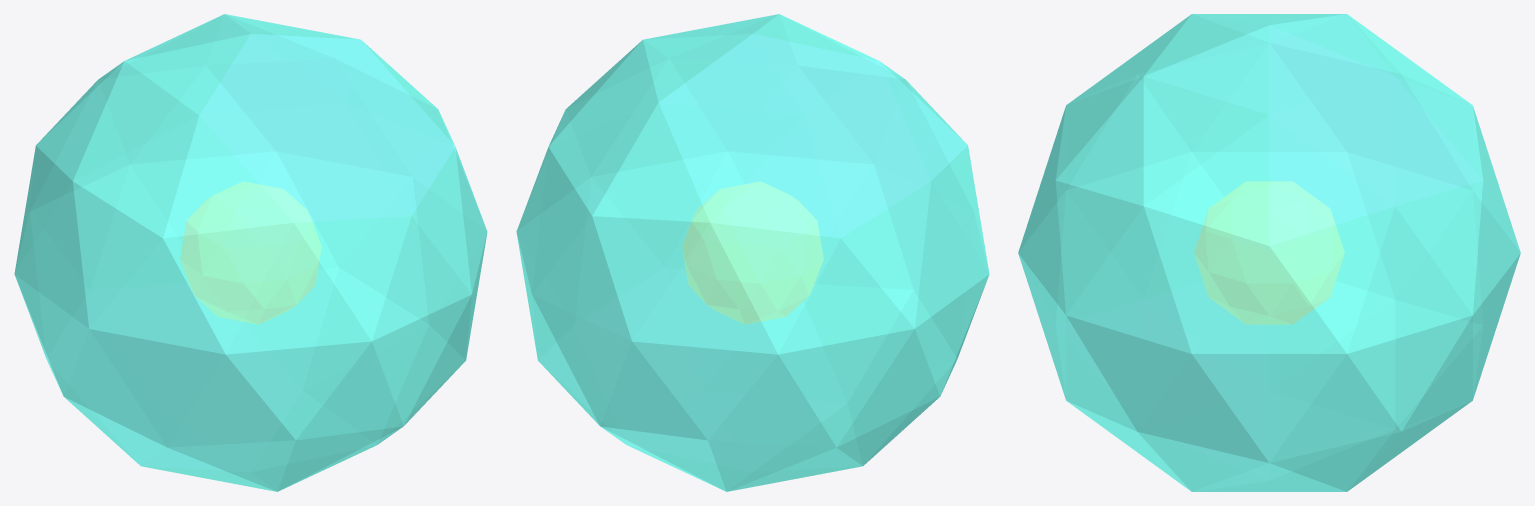
The model's file is item_glass_recording.glb.
3 renders of one model, left to right at view 1: azimuth 30°, elevation 25°; view 2: azimuth 150°, elevation 25°; view 3: azimuth 270°, elevation 25°, orthographic. The views are drawn at different scales.
Visible parts, largest first — view 1: GlassRecording, VoiceInside; view 2: GlassRecording, VoiceInside; view 3: GlassRecording, VoiceInside.
Part boxes in pixels (x1=…): GlassRecording: x1=14, y1=14, x2=487, y2=491; VoiceInside: x1=180, y1=181, x2=321, y2=324; GlassRecording: x1=516, y1=14, x2=989, y2=491; VoiceInside: x1=682, y1=181, x2=823, y2=324; GlassRecording: x1=1018, y1=14, x2=1520, y2=491; VoiceInside: x1=1194, y1=181, x2=1344, y2=324.
Size of the model in its own units: 0.4945 by 0.52 by 0.52.
